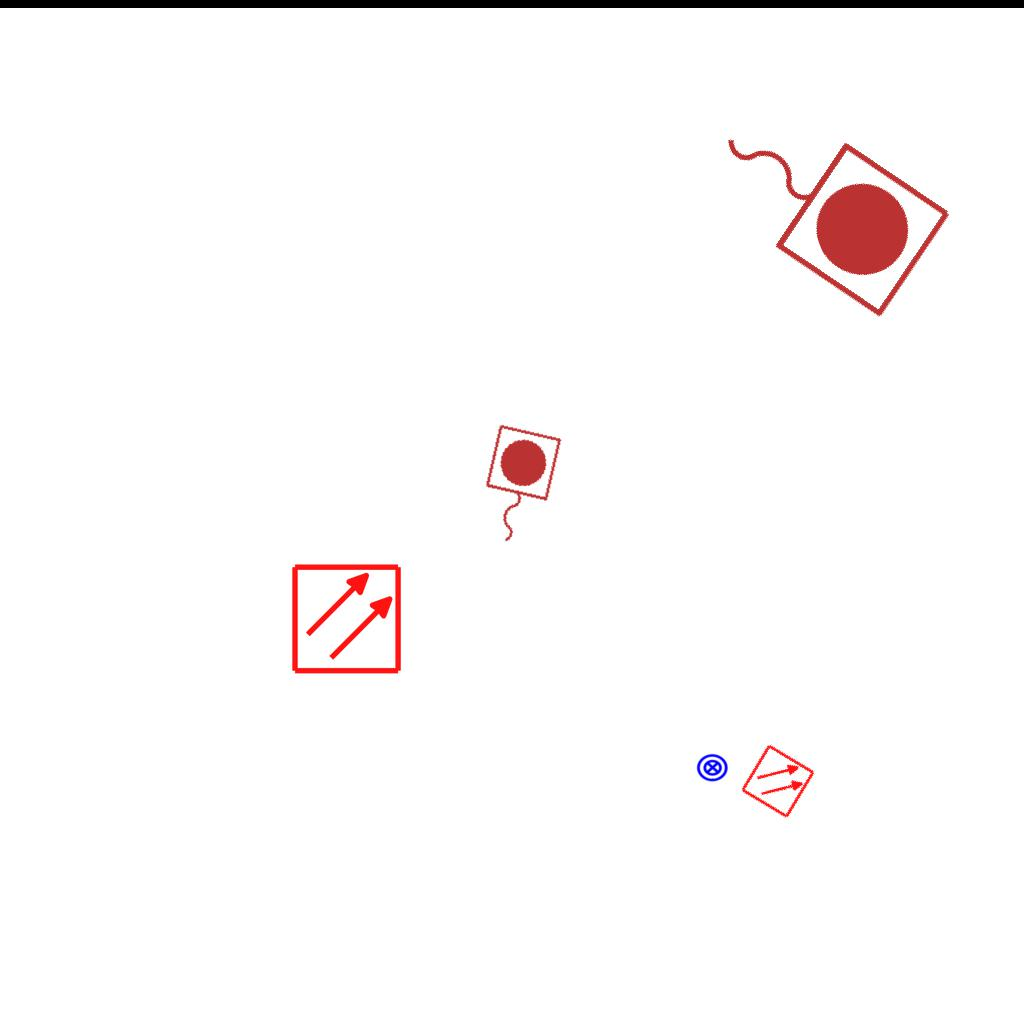RMO_Rauchmelder_optischer: (290, 562, 403, 675), (739, 742, 817, 820)
Taster_beleuchtet: (696, 751, 729, 784)
Zugtaster: (680, 72, 964, 328), (468, 419, 566, 555)
